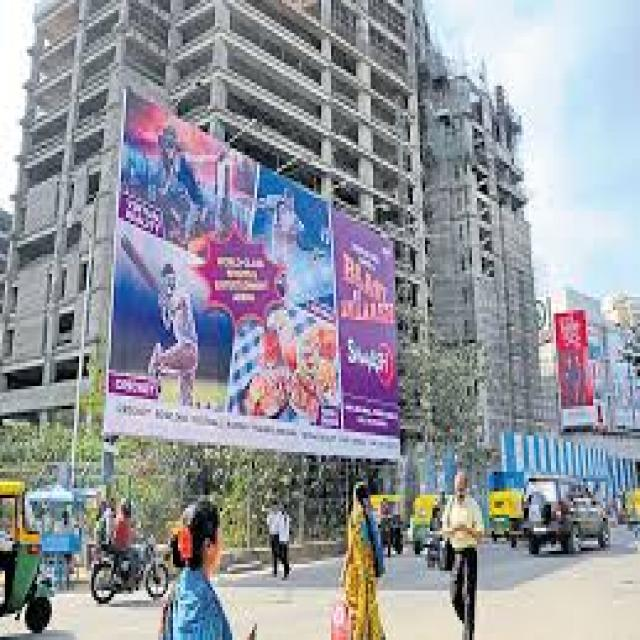Werbetafel frei: (89, 209, 402, 456), (551, 311, 592, 431)
